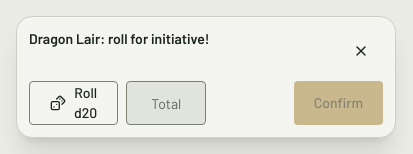
Test: InitiativeRollPrompt › disables Confirm when input is empty or non-numeric
Expected: the button "Confirm" is disabled, [294,81,383,125]
Type non-numeric text
Type "abc" into the field named "Initiative total".
click(166, 103); type("abc")  # box [126,81,206,125]
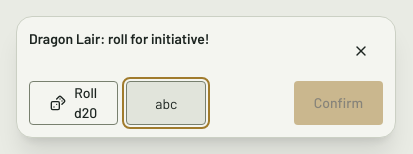
Expected: the button "Confirm" is disabled, [294,81,383,125]
Clear and type numeric
Replace the text in the field named "Initiative total" with "15" at (166, 103), box [126,81,206,125]
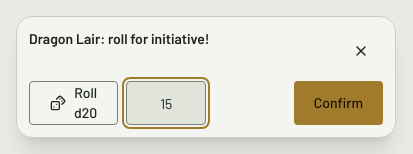
Expected: the button "Confirm" is enabled, [294,81,383,125]
